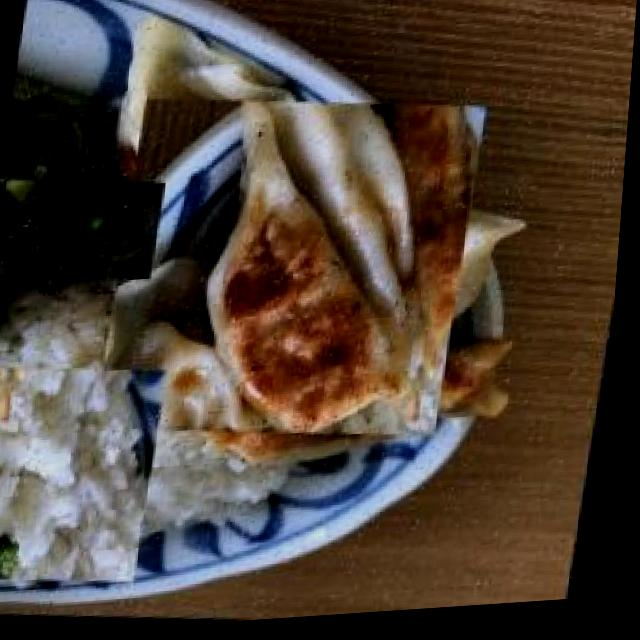fried_dumplings: (101, 79, 487, 463)
rice: (0, 362, 178, 590)
water_spinach: (0, 135, 140, 323)
